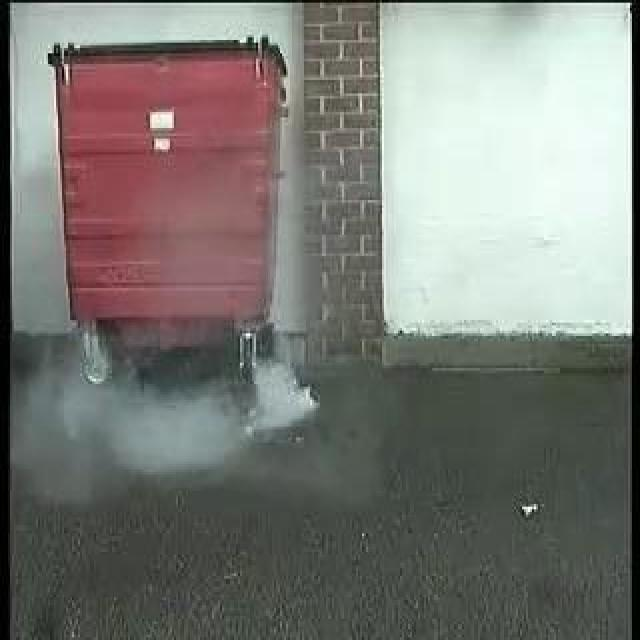Smoke: (106, 352, 318, 461)
